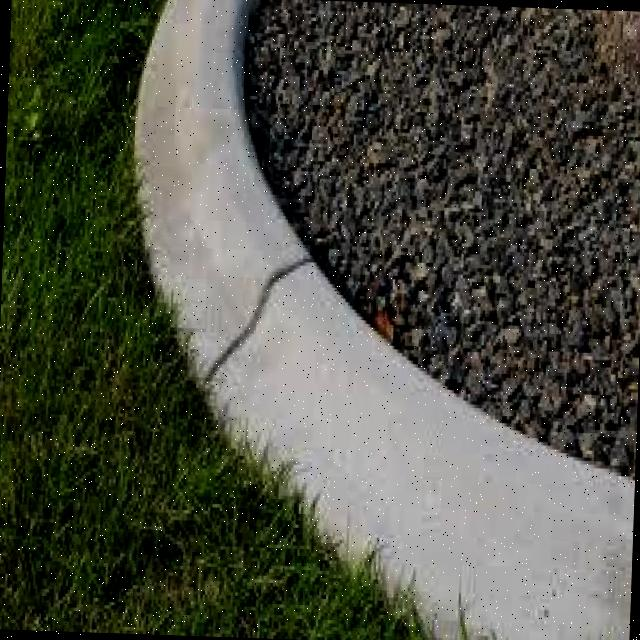curb: (188, 265, 511, 554), (121, 1, 296, 361), (354, 472, 631, 640)
